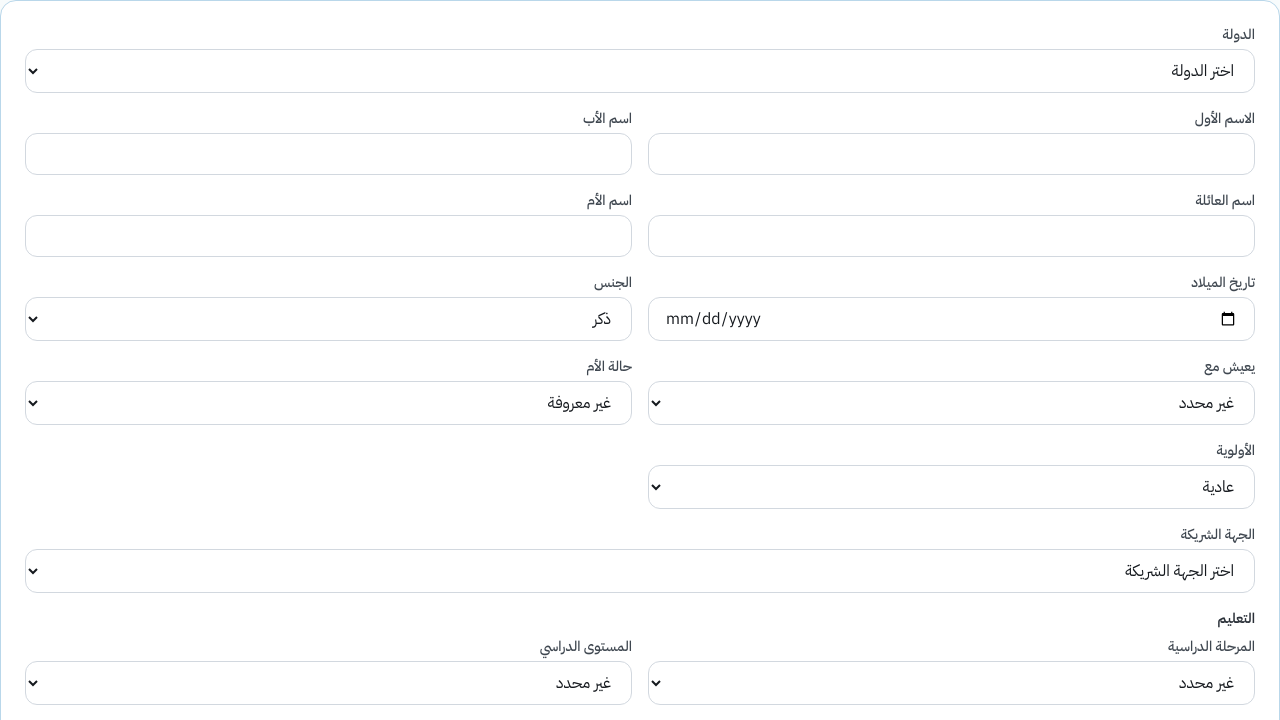
Test: NewOrphanForm — GPS capture (staff path) › stays hidden until a requires_gps country is selected
The width and height of the screenshot is (1280, 720).
Expected: the text "إحداثيات الموقع (GPS)" is not shown
Select "السودان" in the dropdown labelled "الدولة": (640, 71) [25, 49, 1255, 93]
(page scrolled)
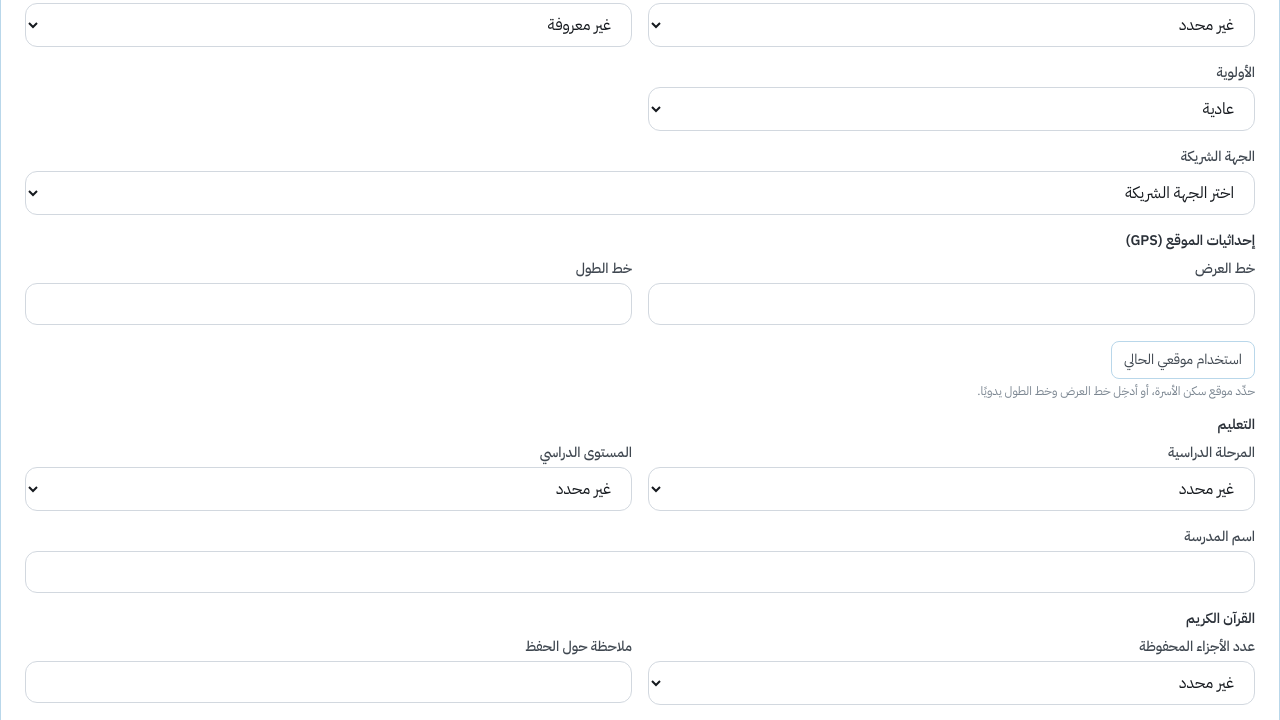
Now the text "إحداثيات الموقع (GPS)" is shown, box [1126, 231, 1255, 251]
Now the number field labelled "خط العرض" is shown, box [648, 283, 1255, 325]
Now the number field labelled "خط الطول" is shown, box [25, 283, 632, 325]
